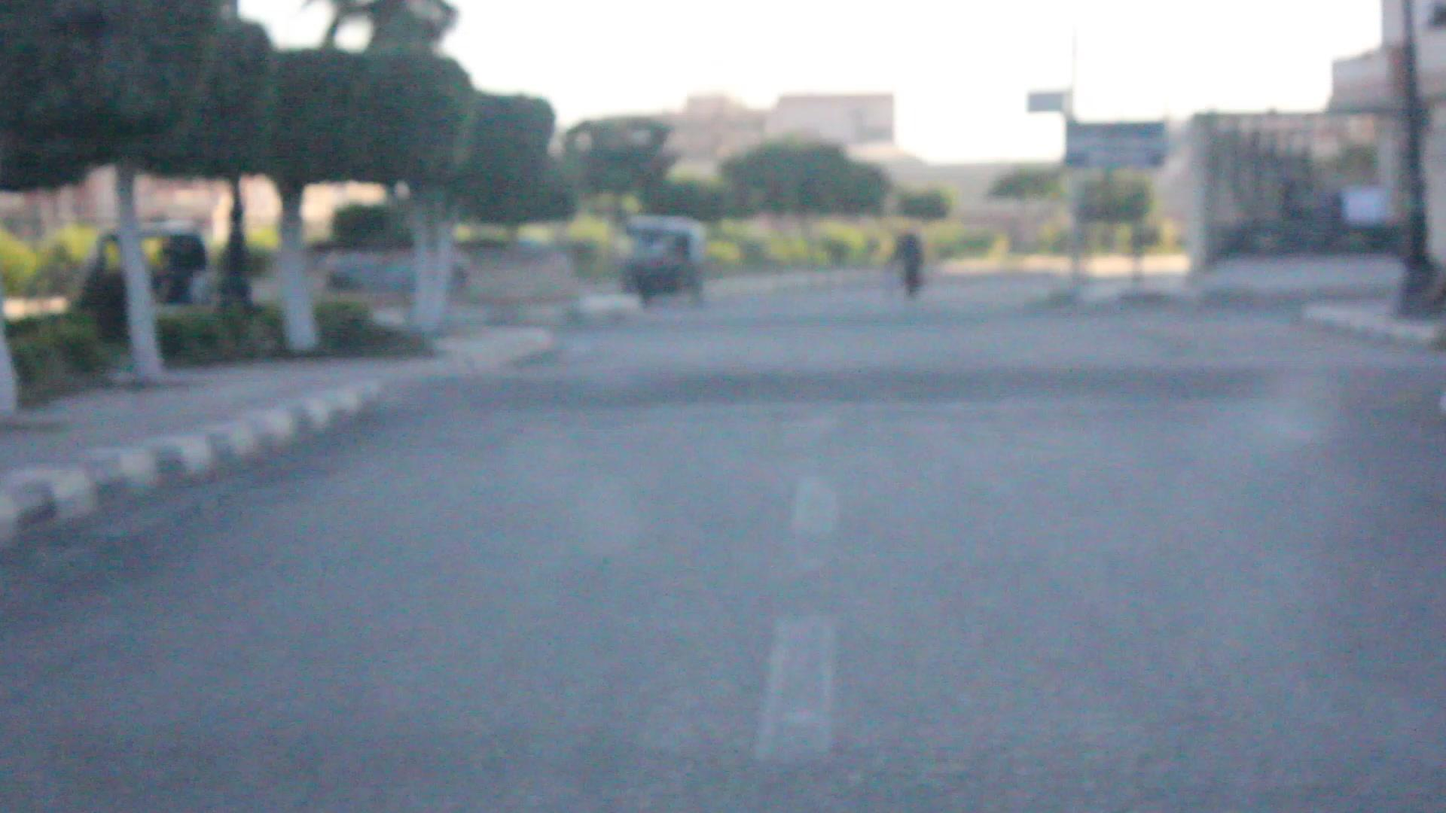Bump: (388, 356, 1446, 412)
